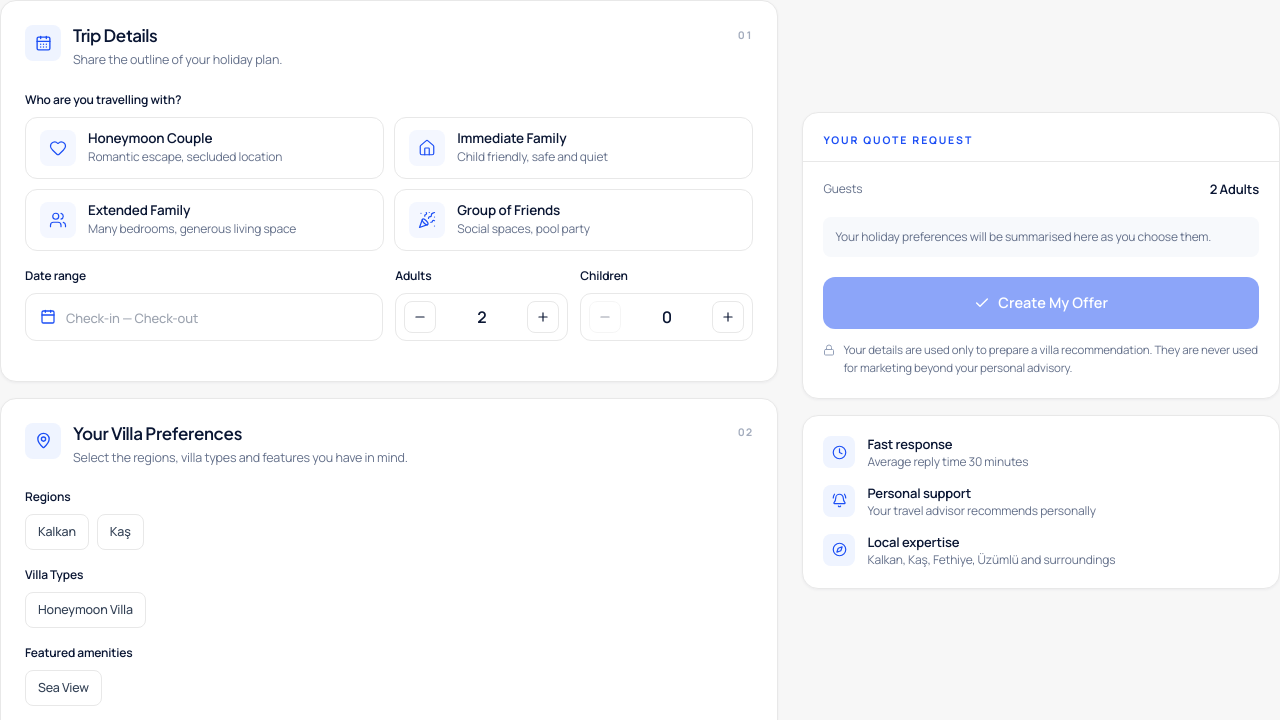
it: 3) teklif özeti (mevcut state'ten) › EN — tip/özellik adı çeviriyle görünür
Check: the button "Kalkan" is shown, box x1=25 y1=514 x2=89 y2=550
Click the button "Honeymoon Villa" at (85, 610), box x1=25 y1=592 x2=146 y2=628
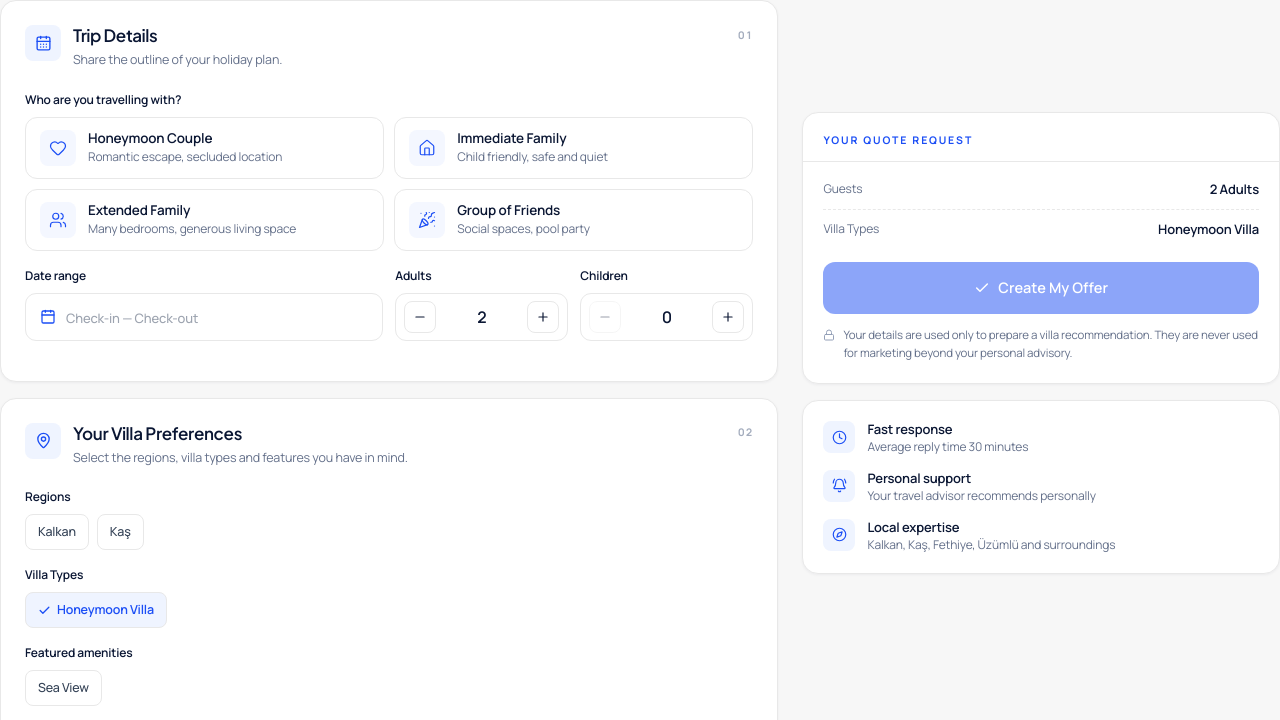
Check: the text "Honeymoon Villa" is shown, box x1=1158 y1=220 x2=1259 y2=240
